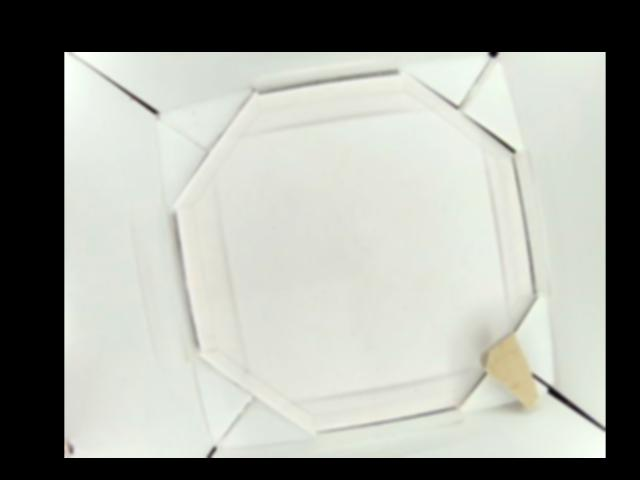China: (482, 333, 538, 413)
